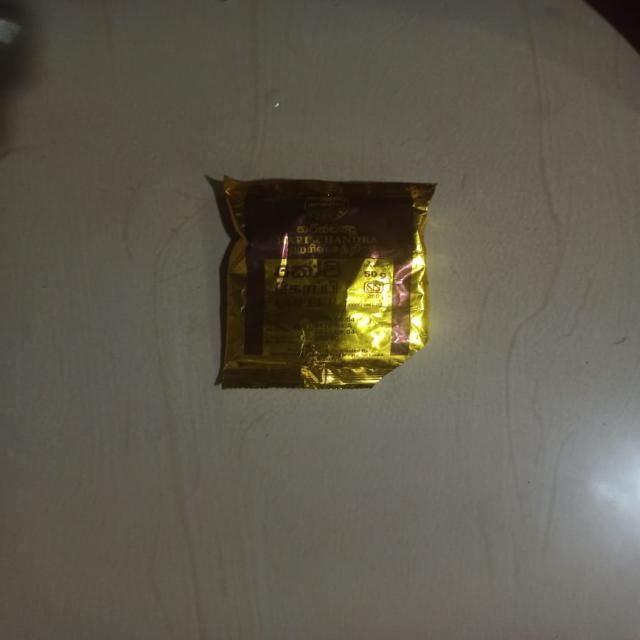Harischandra Coffee: (199, 177, 444, 393)
